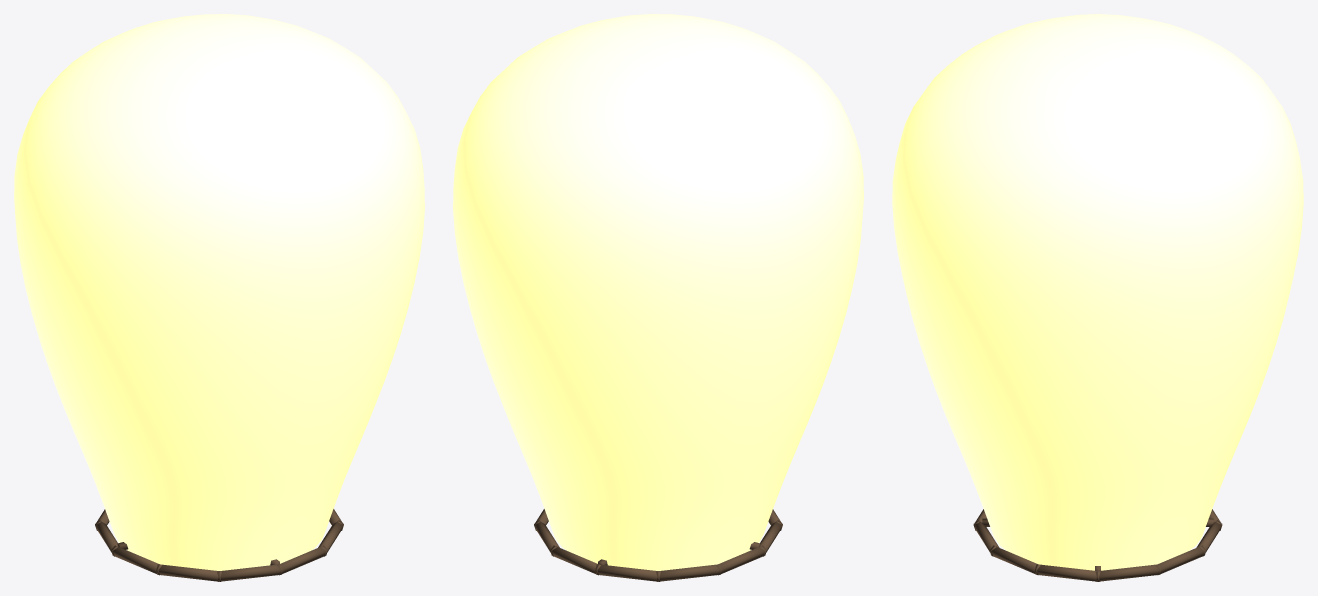
Rendered from lantern.glb.
The picture shows the model from 3 angles, left to right: view 1: azimuth 30°, elevation 25°; view 2: azimuth 150°, elevation 25°; view 3: azimuth 270°, elevation 25°; orthographic projection.
Visible parts, largest first — view 1: SkyLantern; view 2: SkyLantern; view 3: SkyLantern.
Part boxes in pixels (<box>): SkyLantern: <box>14,14,424,581</box>; SkyLantern: <box>453,14,863,581</box>; SkyLantern: <box>892,14,1303,581</box>.
Bounding box in the file's own units: 0.7639 × 1.02 × 0.7639.
